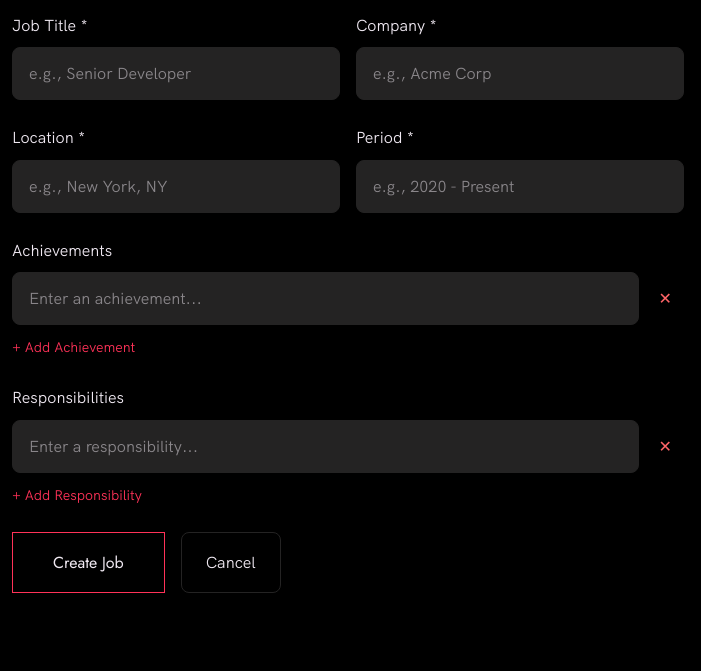
Test case: JobForm Component › Create Mode › allows adding responsibilities
Click the button "+ Add Responsibility".
click(77, 495)  # box [12, 485, 142, 505]
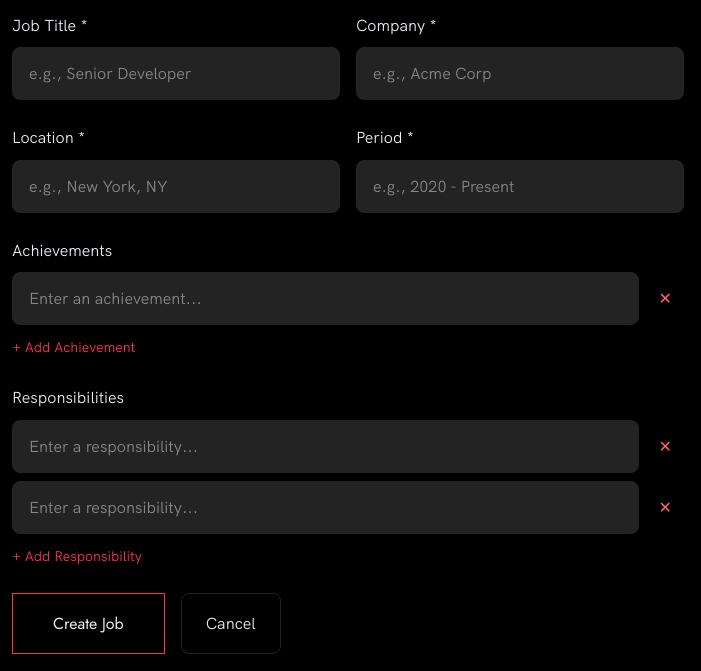
Expected: the number of fields with placeholder "Enter a responsibility..." is 2, [12, 420, 639, 473]; [12, 481, 639, 534]
